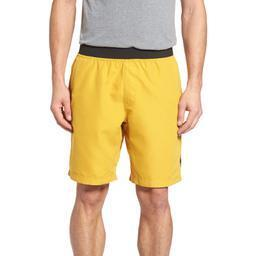short: (67, 48, 182, 186)
